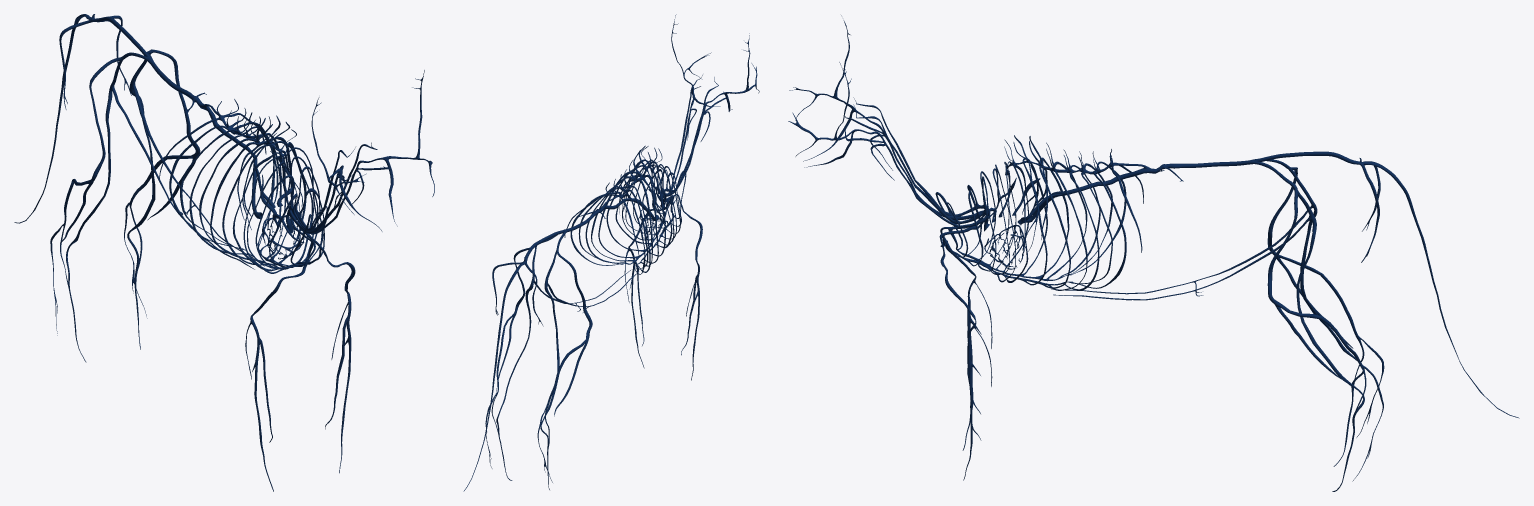
Rendered from Veins.fbx.
The picture shows the model from 3 angles, left to right: view 1: azimuth 30°, elevation 25°; view 2: azimuth 150°, elevation 25°; view 3: azimuth 270°, elevation 25°; orthographic projection. The views are drawn at different scales.
Visible parts, largest first — view 1: Veins; view 2: Veins; view 3: Veins.
Part boxes in pixels (x1=…): Veins: x1=14, y1=14, x2=434, y2=491; Veins: x1=463, y1=14, x2=759, y2=491; Veins: x1=788, y1=15, x2=1519, y2=491.
Bounding box in the file's own units: 8.23 × 32.04 × 47.97.
